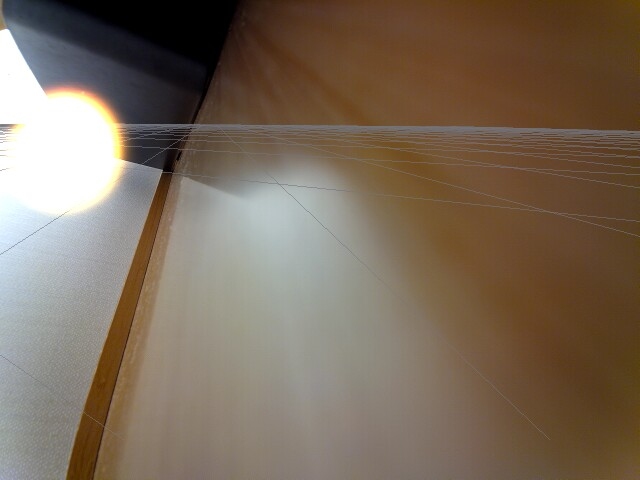firebig: (1, 67, 163, 273)
